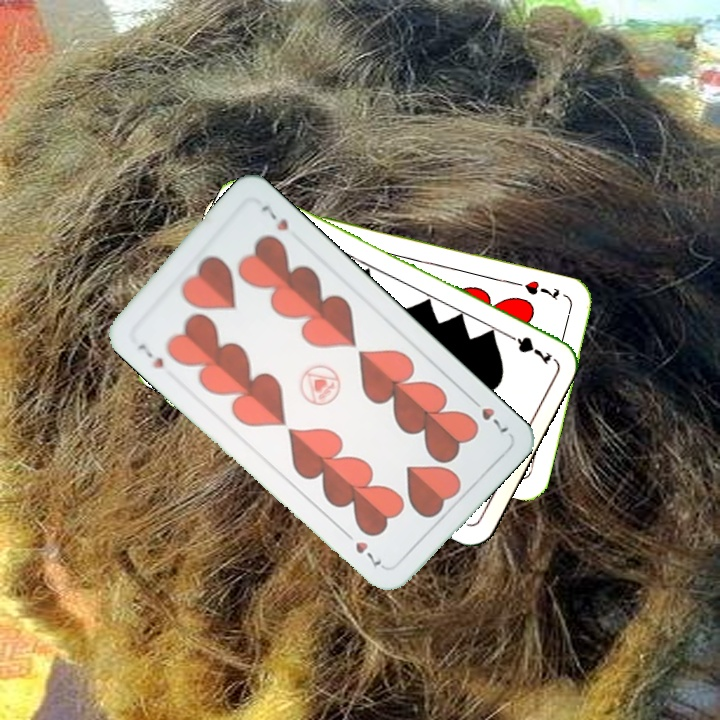G7: (499, 328, 555, 367)
H7: (465, 392, 512, 436), (520, 276, 562, 303), (134, 340, 166, 372)
